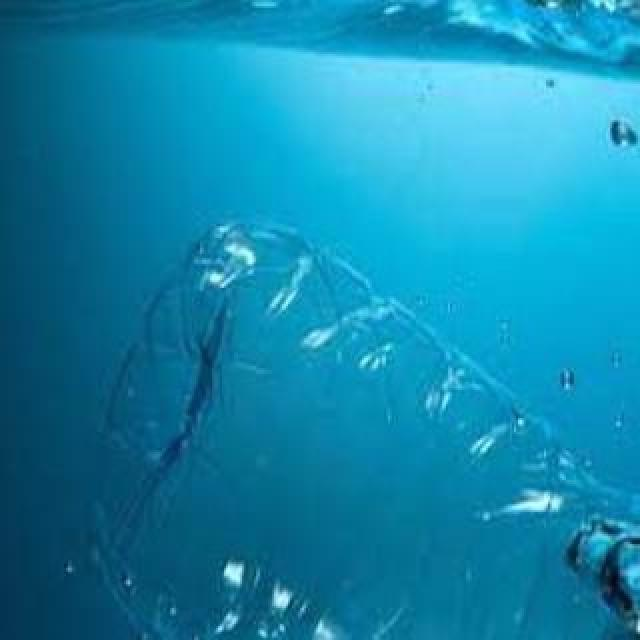Pet_Bottle: (100, 218, 640, 640)
